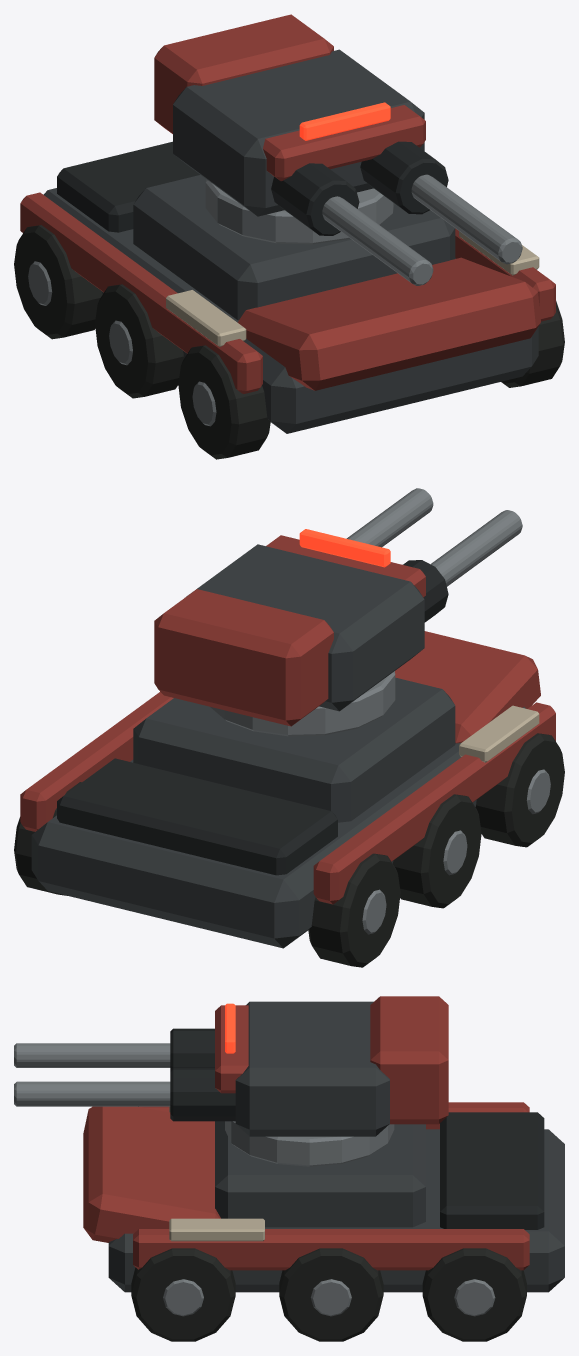
The model's file is ff_en_sup_01_v1.glb.
3 views of the same model, one above another, from view 1: azimuth 30°, elevation 25°; view 2: azimuth 150°, elevation 25°; view 3: azimuth 270°, elevation 25° (orthographic). The views are drawn at different scales.
Visible parts, largest first — view 1: FF_EN_SUP_01_M_EnemyCrimsonArmor_runtime, FF_EN_SUP_01_M_EnemyObsidianArmor_runtime, FF_EN_SUP_01_M_EnemyTrack_runtime, turret_yaw_M_EnemyObsidianArmor_runtime, turret_yaw_M_EnemyCrimsonArmor_runtime, turret_yaw_M_EnemyGunmetal_runtime, turret_yaw_M_EnemyRecess_runtime, FF_EN_SUP_01_M_EnemyRecess_runtime, FF_EN_SUP_01_M_EnemyMarking_runtime, FF_EN_SUP_01_M_EnemyGunmetal_runtime, turret_yaw_M_EnemySignal_runtime; view 2: FF_EN_SUP_01_M_EnemyObsidianArmor_runtime, FF_EN_SUP_01_M_EnemyCrimsonArmor_runtime, turret_yaw_M_EnemyCrimsonArmor_runtime, FF_EN_SUP_01_M_EnemyTrack_runtime, FF_EN_SUP_01_M_EnemyRecess_runtime, turret_yaw_M_EnemyObsidianArmor_runtime, turret_yaw_M_EnemyGunmetal_runtime, FF_EN_SUP_01_M_EnemyGunmetal_runtime, FF_EN_SUP_01_M_EnemyMarking_runtime, turret_yaw_M_EnemySignal_runtime, turret_yaw_M_EnemyRecess_runtime; view 3: FF_EN_SUP_01_M_EnemyCrimsonArmor_runtime, FF_EN_SUP_01_M_EnemyObsidianArmor_runtime, FF_EN_SUP_01_M_EnemyTrack_runtime, turret_yaw_M_EnemyObsidianArmor_runtime, FF_EN_SUP_01_M_EnemyRecess_runtime, turret_yaw_M_EnemyGunmetal_runtime, turret_yaw_M_EnemyCrimsonArmor_runtime, turret_yaw_M_EnemyRecess_runtime, FF_EN_SUP_01_M_EnemyGunmetal_runtime, FF_EN_SUP_01_M_EnemyMarking_runtime, turret_yaw_M_EnemySignal_runtime.
Boxes of the visible parts, box(x1,y1,x2,y2) form: FF_EN_SUP_01_M_EnemyCrimsonArmor_runtime: box(20, 192, 555, 393); FF_EN_SUP_01_M_EnemyObsidianArmor_runtime: box(43, 175, 538, 433); FF_EN_SUP_01_M_EnemyTrack_runtime: box(14, 225, 564, 459); turret_yaw_M_EnemyObsidianArmor_runtime: box(173, 49, 424, 216); turret_yaw_M_EnemyCrimsonArmor_runtime: box(154, 14, 425, 181); turret_yaw_M_EnemyGunmetal_runtime: box(205, 174, 522, 285); turret_yaw_M_EnemyRecess_runtime: box(271, 141, 448, 235); FF_EN_SUP_01_M_EnemyRecess_runtime: box(57, 141, 200, 232); FF_EN_SUP_01_M_EnemyMarking_runtime: box(166, 231, 539, 346); FF_EN_SUP_01_M_EnemyGunmetal_runtime: box(28, 261, 216, 426); turret_yaw_M_EnemySignal_runtime: box(299, 102, 390, 140); FF_EN_SUP_01_M_EnemyObsidianArmor_runtime: box(31, 677, 525, 948); FF_EN_SUP_01_M_EnemyCrimsonArmor_runtime: box(20, 631, 555, 904); turret_yaw_M_EnemyCrimsonArmor_runtime: box(154, 535, 425, 726); FF_EN_SUP_01_M_EnemyTrack_runtime: box(14, 733, 564, 967); FF_EN_SUP_01_M_EnemyRecess_runtime: box(57, 758, 337, 875); turret_yaw_M_EnemyObsidianArmor_runtime: box(186, 544, 424, 711); turret_yaw_M_EnemyGunmetal_runtime: box(210, 488, 522, 736); FF_EN_SUP_01_M_EnemyGunmetal_runtime: box(362, 769, 550, 934); FF_EN_SUP_01_M_EnemyMarking_runtime: box(459, 705, 539, 762); turret_yaw_M_EnemySignal_runtime: box(299, 529, 390, 567); turret_yaw_M_EnemyRecess_runtime: box(403, 560, 448, 622); FF_EN_SUP_01_M_EnemyCrimsonArmor_runtime: box(83, 1102, 529, 1270); FF_EN_SUP_01_M_EnemyObsidianArmor_runtime: box(108, 1121, 564, 1292); FF_EN_SUP_01_M_EnemyTrack_runtime: box(131, 1248, 526, 1341); turret_yaw_M_EnemyObsidianArmor_runtime: box(235, 1001, 389, 1136); FF_EN_SUP_01_M_EnemyRecess_runtime: box(440, 1112, 544, 1229); turret_yaw_M_EnemyGunmetal_runtime: box(14, 1043, 394, 1166); turret_yaw_M_EnemyCrimsonArmor_runtime: box(215, 996, 448, 1124); turret_yaw_M_EnemyRecess_runtime: box(170, 1028, 235, 1121); FF_EN_SUP_01_M_EnemyGunmetal_runtime: box(163, 1279, 495, 1316); FF_EN_SUP_01_M_EnemyMarking_runtime: box(169, 1106, 264, 1241); turret_yaw_M_EnemySignal_runtime: box(225, 1003, 235, 1053).
Bounding box in the file's own units: 3.18 × 2.54 × 5.07.
